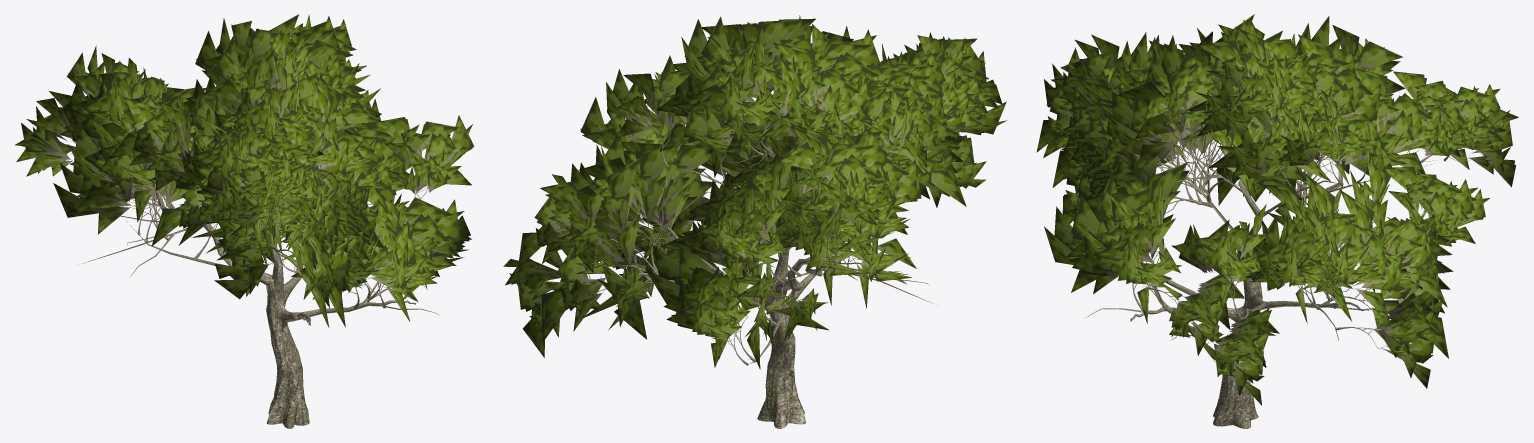
Rendered from Oak2.obj.
3 views of the same model, side by side, from view 1: azimuth 30°, elevation 25°; view 2: azimuth 150°, elevation 25°; view 3: azimuth 270°, elevation 25° (orthographic). The views are drawn at different scales.
Visible parts, largest first — view 1: oak leaf, mossybark03; view 2: oak leaf, mossybark03; view 3: oak leaf, mossybark03.
Boxes of the visible parts, x1=… form: oak leaf: x1=15, y1=14, x2=474, y2=327; mossybark03: x1=61, y1=86, x2=439, y2=428; oak leaf: x1=503, y1=15, x2=1006, y2=369; mossybark03: x1=552, y1=85, x2=933, y2=428; oak leaf: x1=1036, y1=14, x2=1518, y2=405; mossybark03: x1=1086, y1=90, x2=1483, y2=428.
Bounding box in the file's own units: 888 × 890 × 1005.
Materials: 2 (2 with a texture image).
